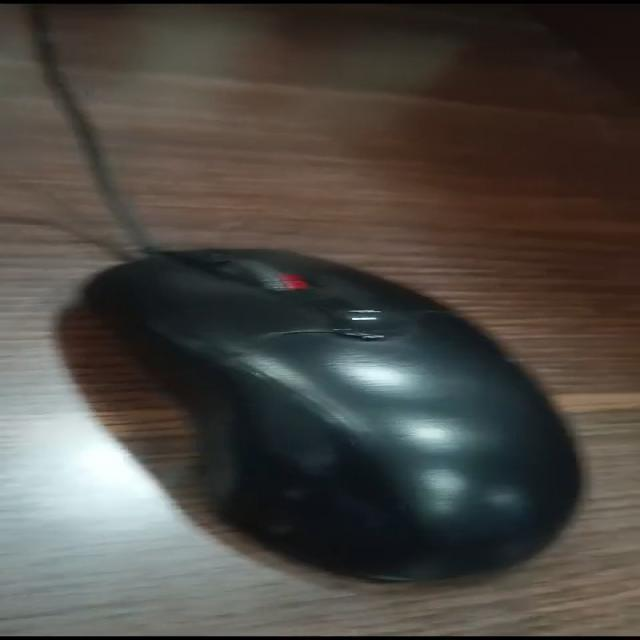mouse: (27, 162, 622, 627)
